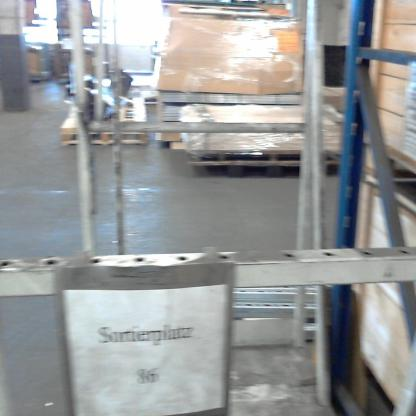pallet: (177, 100, 353, 174), (64, 89, 143, 155)
stillage: (54, 41, 98, 88), (22, 37, 52, 81)
